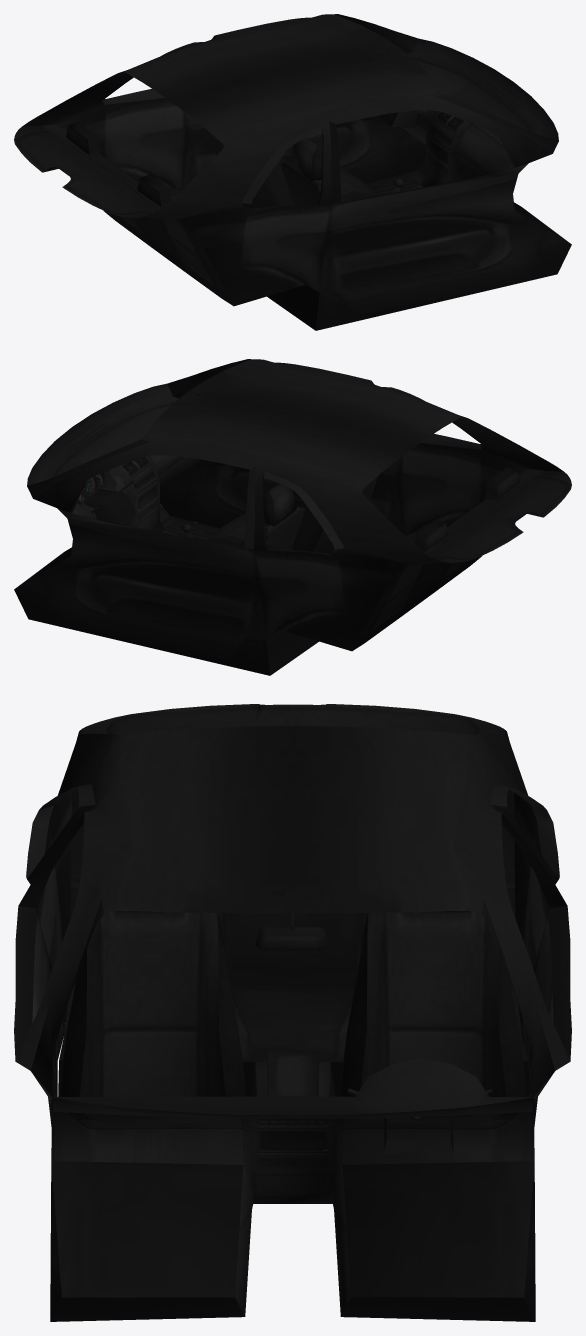
The model's file is gallo99_interior_ucb_interiors_2_0.002_lev3.glb.
The picture shows the model from 3 angles, top to bottom: view 1: azimuth 30°, elevation 25°; view 2: azimuth 150°, elevation 25°; view 3: azimuth 270°, elevation 25°; orthographic projection. The views are drawn at different scales.
Parts seen in each view (by area): view 1: gallo99_interior_ucb_interiors_2_0.002_lev3; view 2: gallo99_interior_ucb_interiors_2_0.002_lev3; view 3: gallo99_interior_ucb_interiors_2_0.002_lev3.
Boxes of the visible parts, <box> form: gallo99_interior_ucb_interiors_2_0.002_lev3: <box>14,14,571,330</box>; gallo99_interior_ucb_interiors_2_0.002_lev3: <box>14,359,571,675</box>; gallo99_interior_ucb_interiors_2_0.002_lev3: <box>14,704,571,1321</box>.
Bounding box in the file's own units: 2.56 × 1.07 × 1.56.
Materials: 1 (1 with a texture image).
